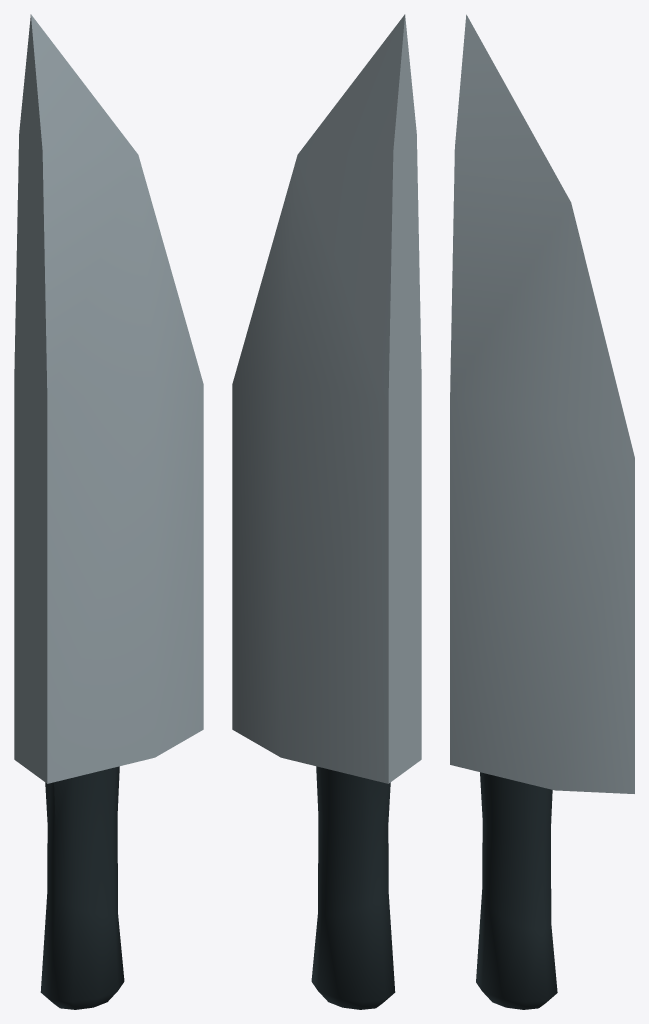
Rendered from knife.gltf.glb.
3 views of the same model, side by side, from view 1: azimuth 30°, elevation 25°; view 2: azimuth 150°, elevation 25°; view 3: azimuth 330°, elevation 25° (orthographic). The views are drawn at different scales.
Visible parts, largest first — view 1: knife; view 2: knife; view 3: knife.
Part boxes in pixels (x1,y1,x2,y2): knife: [14, 14, 203, 1009]; knife: [232, 14, 421, 1009]; knife: [450, 14, 634, 1009].
Size of the model in its own units: 0.2539 by 1.4 by 0.0845.
